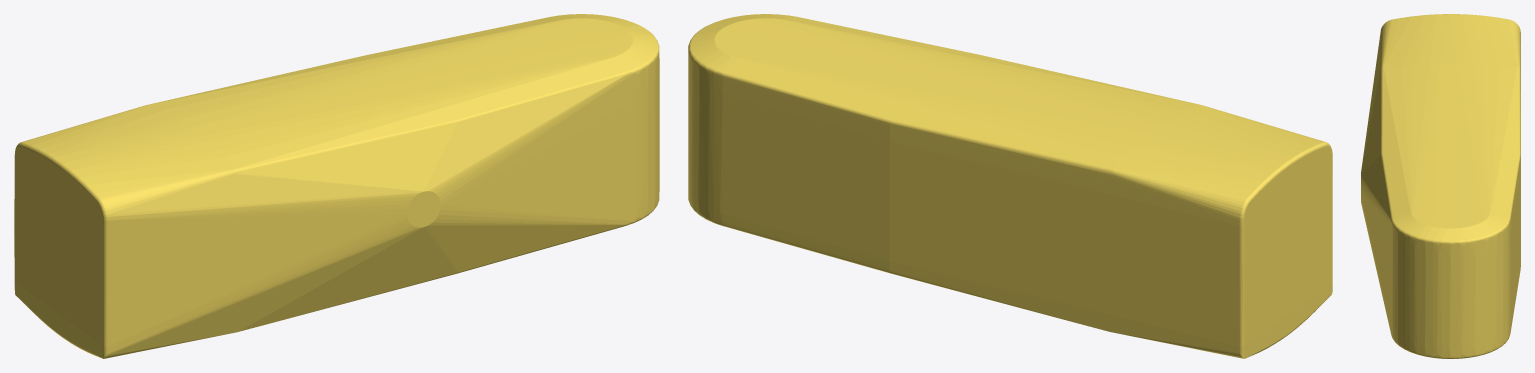
3 renders of one model, left to right at view 1: azimuth 30°, elevation 25°; view 2: azimuth 150°, elevation 25°; view 3: azimuth 270°, elevation 25°, orthographic. The views are drawn at different scales.
Visible parts, largest first — view 1: link_4.stl; view 2: link_4.stl; view 3: link_4.stl.
Boxes of the visible parts, left/top/right/bottom form: link_4.stl: left=14, top=14, right=659, bottom=358; link_4.stl: left=688, top=14, right=1332, bottom=358; link_4.stl: left=1361, top=14, right=1520, bottom=358.
Bounding box in the file's own units: 0.3727 × 0.1047 × 0.1139.
